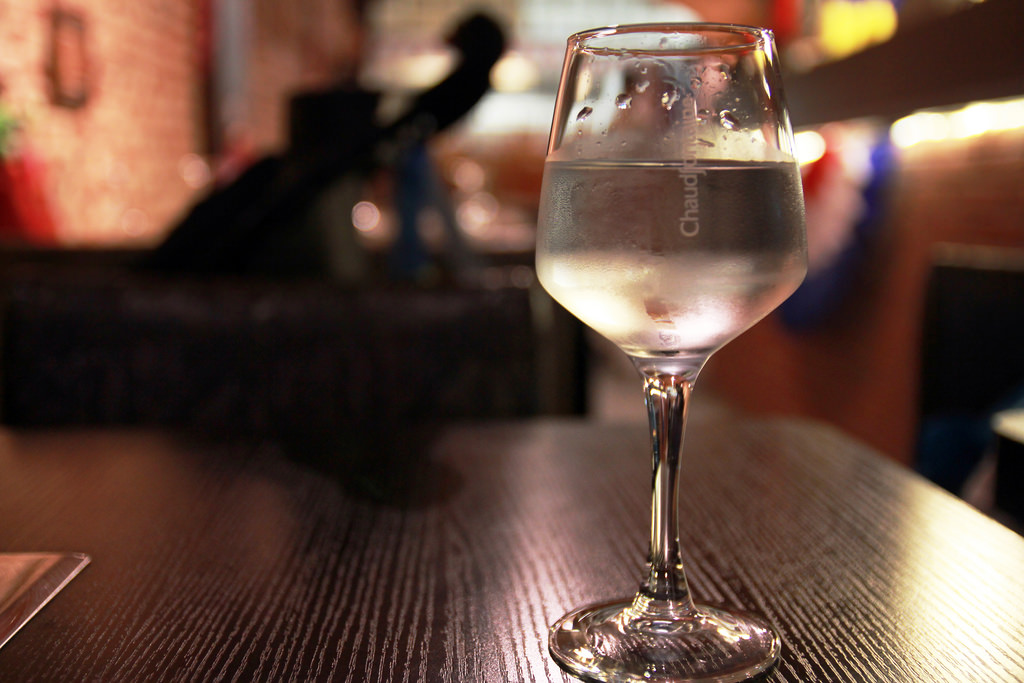glass of water: (530, 10, 838, 683)
